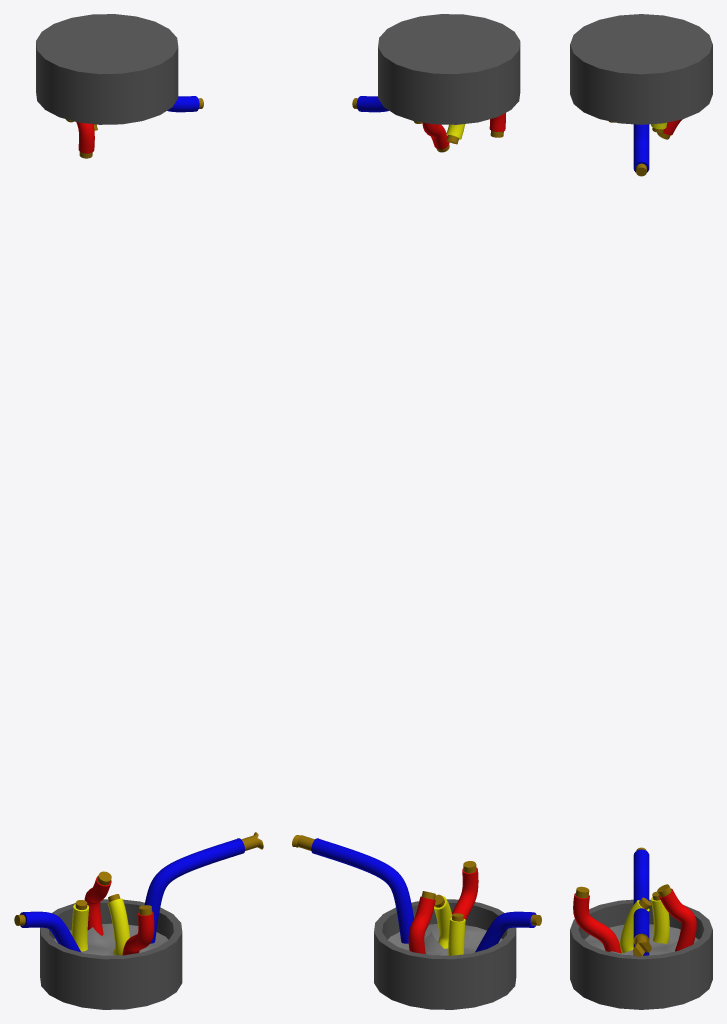
Rendered from Wires01.fbx.
3 renders of one model, left to right at view 1: azimuth 30°, elevation 25°; view 2: azimuth 150°, elevation 25°; view 3: azimuth 270°, elevation 25°, orthographic.
Visible parts, largest first — view 1: polySurface70, polySurface78, polySurface83, polySurface80, polySurface81, polySurface85, polySurface82, polySurface79; view 2: polySurface70, polySurface78, polySurface83, polySurface80, polySurface81, polySurface85, polySurface79, polySurface82; view 3: polySurface70, polySurface78, polySurface85, polySurface81, polySurface80, polySurface72, polySurface83, polySurface79, polySurface82.
Part boxes in pixels (x1,y1,x2,y2): polySurface70: [36, 14, 178, 124]; polySurface78: [40, 899, 182, 1009]; polySurface83: [144, 832, 263, 943]; polySurface80: [14, 911, 80, 952]; polySurface81: [84, 871, 111, 935]; polySurface85: [122, 905, 154, 955]; polySurface82: [107, 894, 130, 955]; polySurface79: [71, 900, 88, 951]; polySurface70: [378, 14, 520, 124]; polySurface78: [374, 899, 516, 1009]; polySurface83: [292, 835, 413, 943]; polySurface80: [475, 911, 541, 952]; polySurface81: [408, 891, 435, 954]; polySurface85: [452, 861, 478, 920]; polySurface79: [448, 913, 465, 955]; polySurface82: [434, 894, 452, 948]; polySurface70: [570, 14, 712, 124]; polySurface78: [570, 899, 712, 1009]; polySurface85: [573, 886, 621, 953]; polySurface81: [657, 884, 696, 951]; polySurface80: [633, 847, 649, 914]; polySurface72: [633, 124, 649, 176]; polySurface83: [633, 908, 651, 956]; polySurface79: [651, 891, 669, 943]; polySurface82: [620, 897, 651, 953].
Bounding box in the file's own units: 35.3 × 130 × 18.
